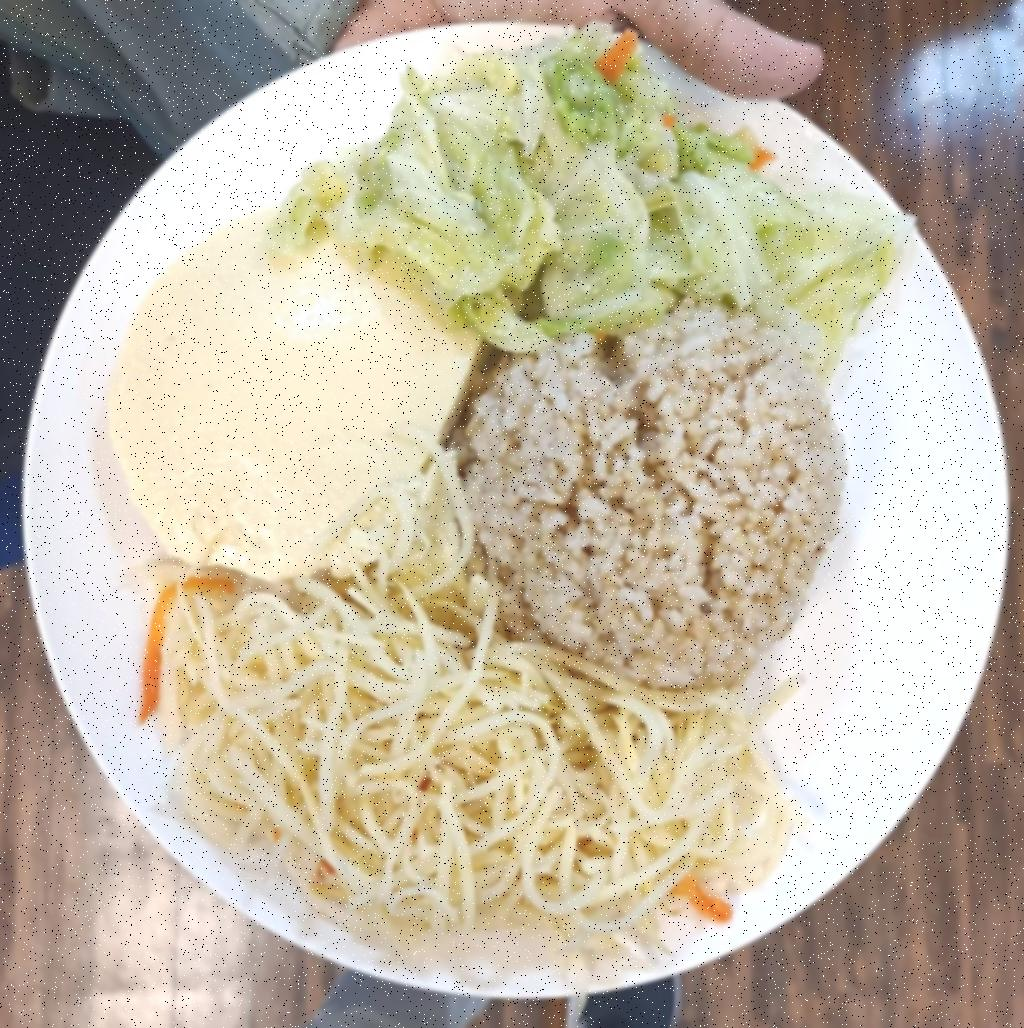brown rice: (452, 300, 854, 684)
plate: (6, 20, 1006, 1002)
side dish: (146, 576, 780, 961), (286, 38, 882, 318), (96, 178, 512, 570)
